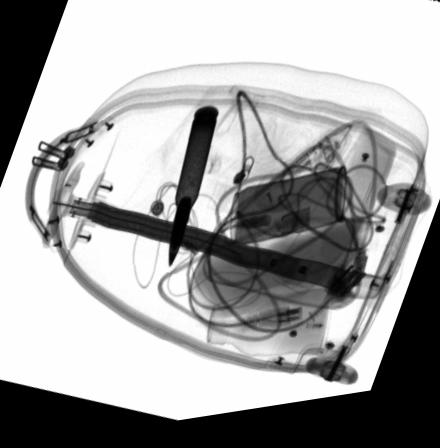Bullet: (167, 111, 218, 271)
